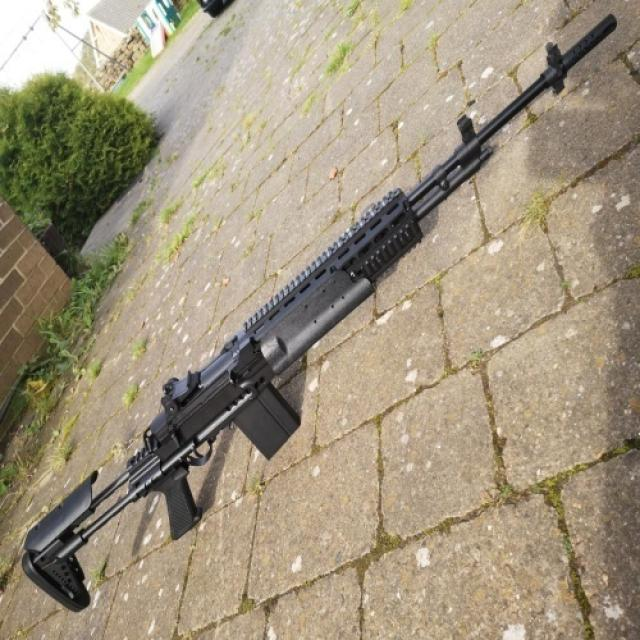Gun: (28, 28, 640, 593)
